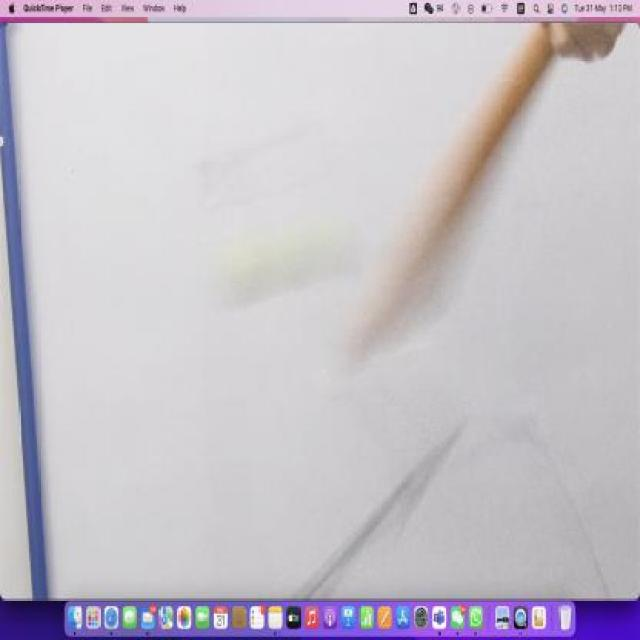baseball: (224, 228, 353, 314)
